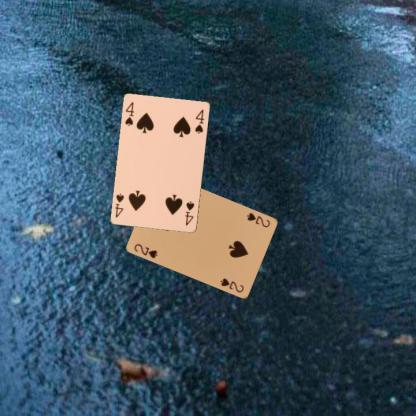2s: (244, 210, 272, 229), (132, 241, 159, 259)
4s: (122, 99, 136, 128), (182, 199, 196, 227)
